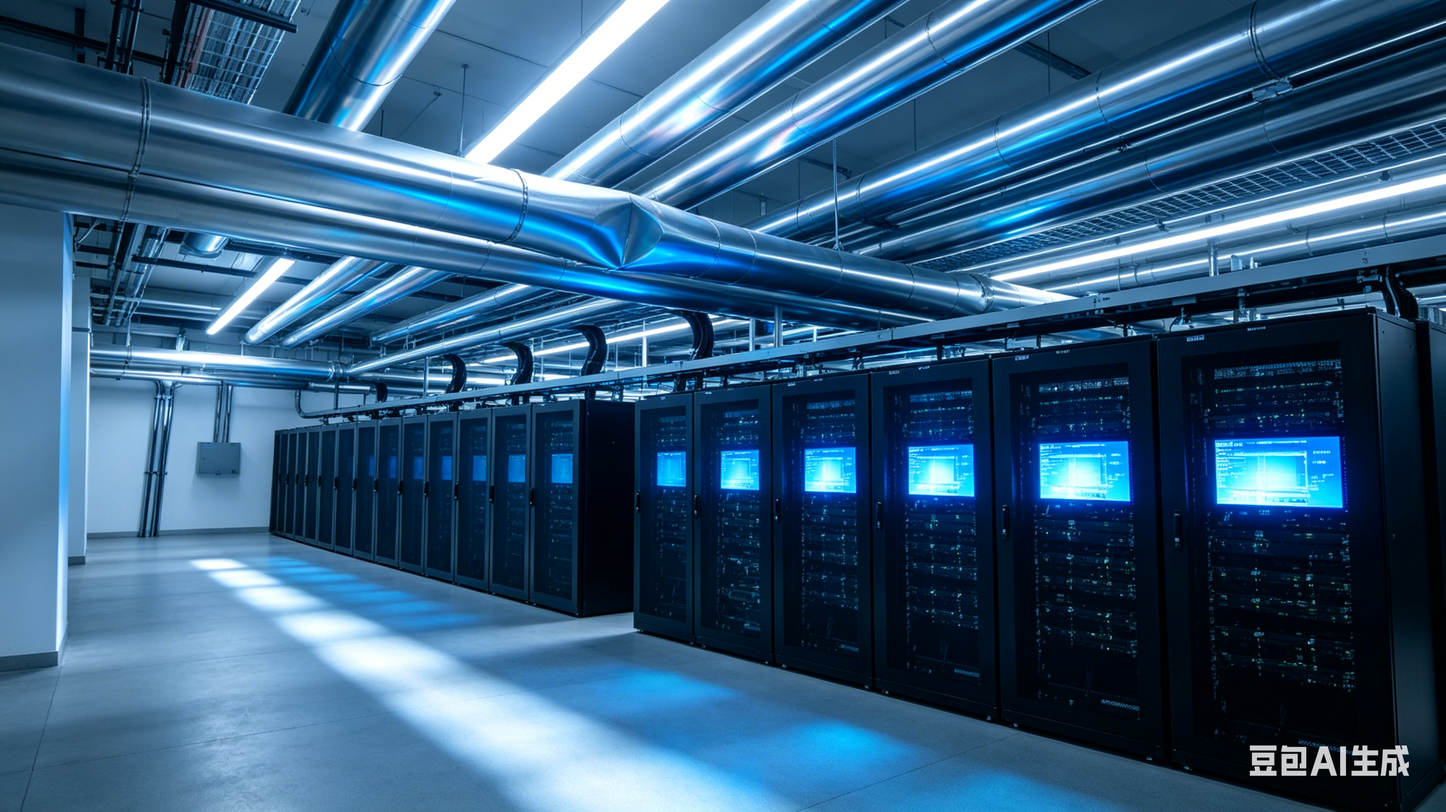Leakage: (585, 187, 668, 276)
